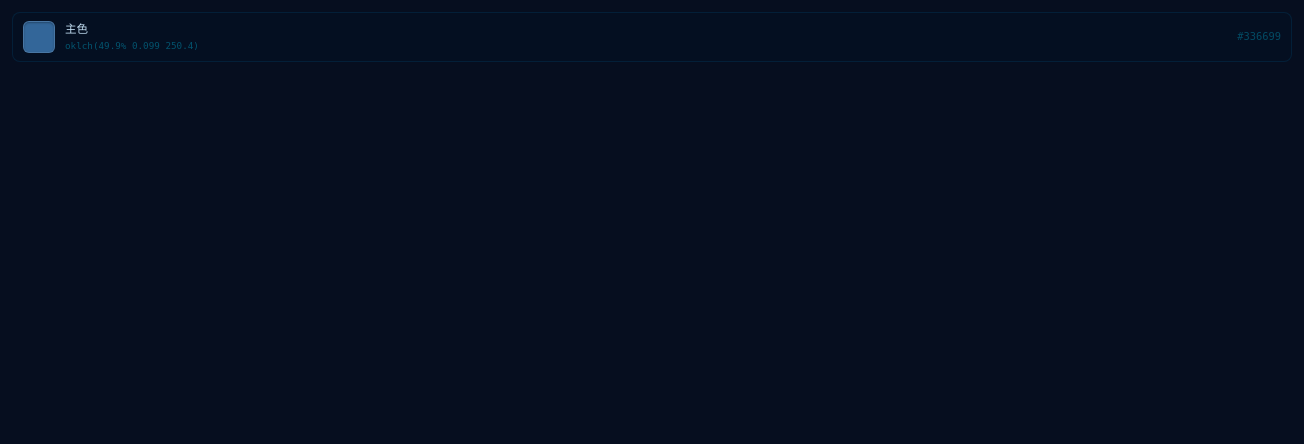
ColorSwatch › 点击开合 ColorPicker
Click the button "主色 oklch(49.9% 0.099 250.4) #336699": click(39, 37) [12,12,1292,62]
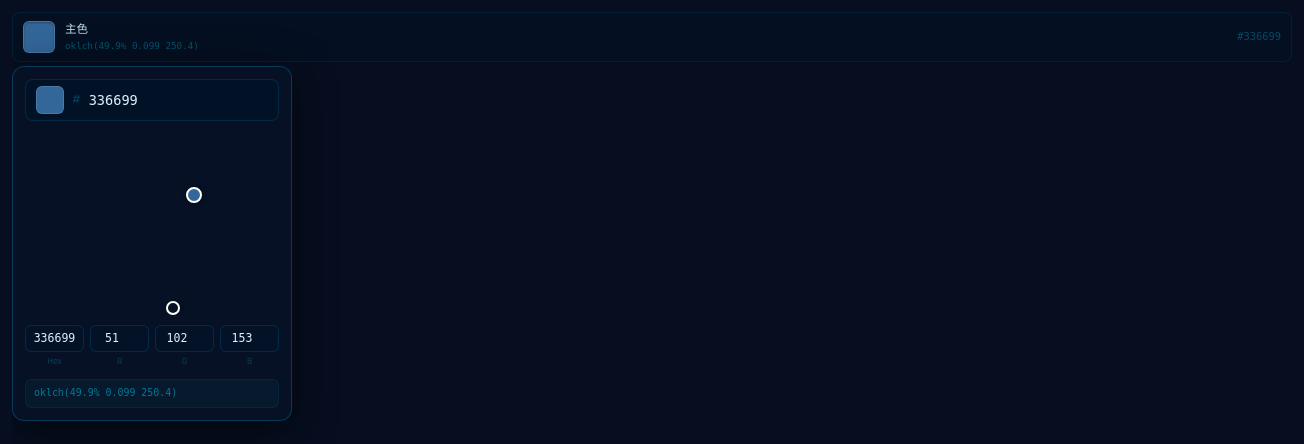
Check: the 1st field is shown, box [89,90,268,110]
Click the button "主色 oklch(49.9% 0.099 250.4) #336699": click(39, 37) [12,12,1292,62]
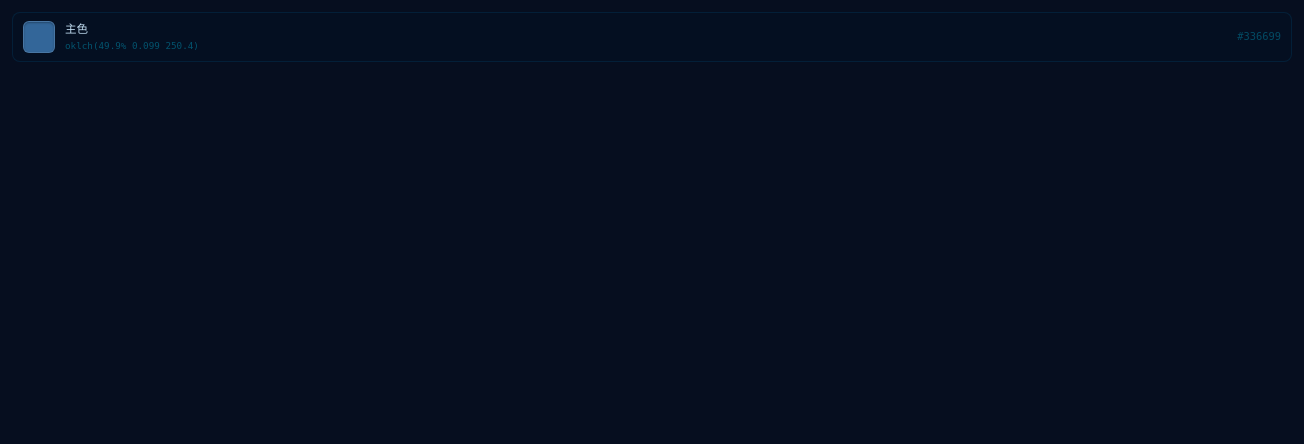
Check: the field is gone
